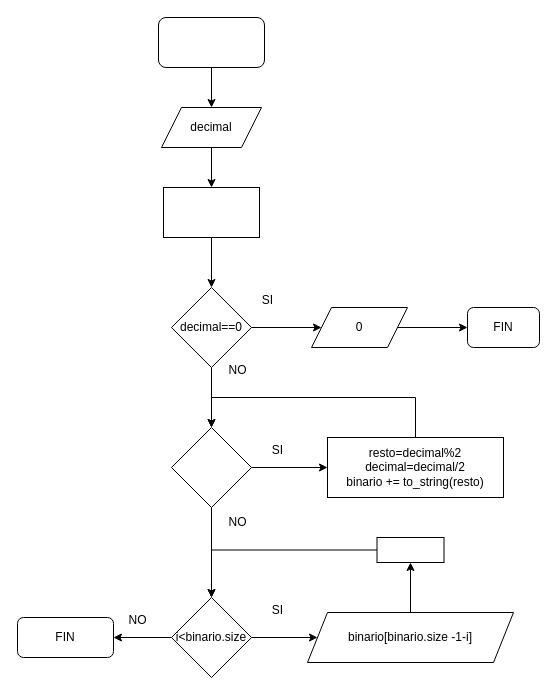
Some shapes in this 557 by 695 pixel diagram are drawn without their labels. The centre of each missing label's shape, as x and y in pixels:
++i: (x=410, y=549)
decimal>=1: (x=211, y=467)
INICIO: (x=211, y=42)
resto=0 binario: (x=211, y=212)
